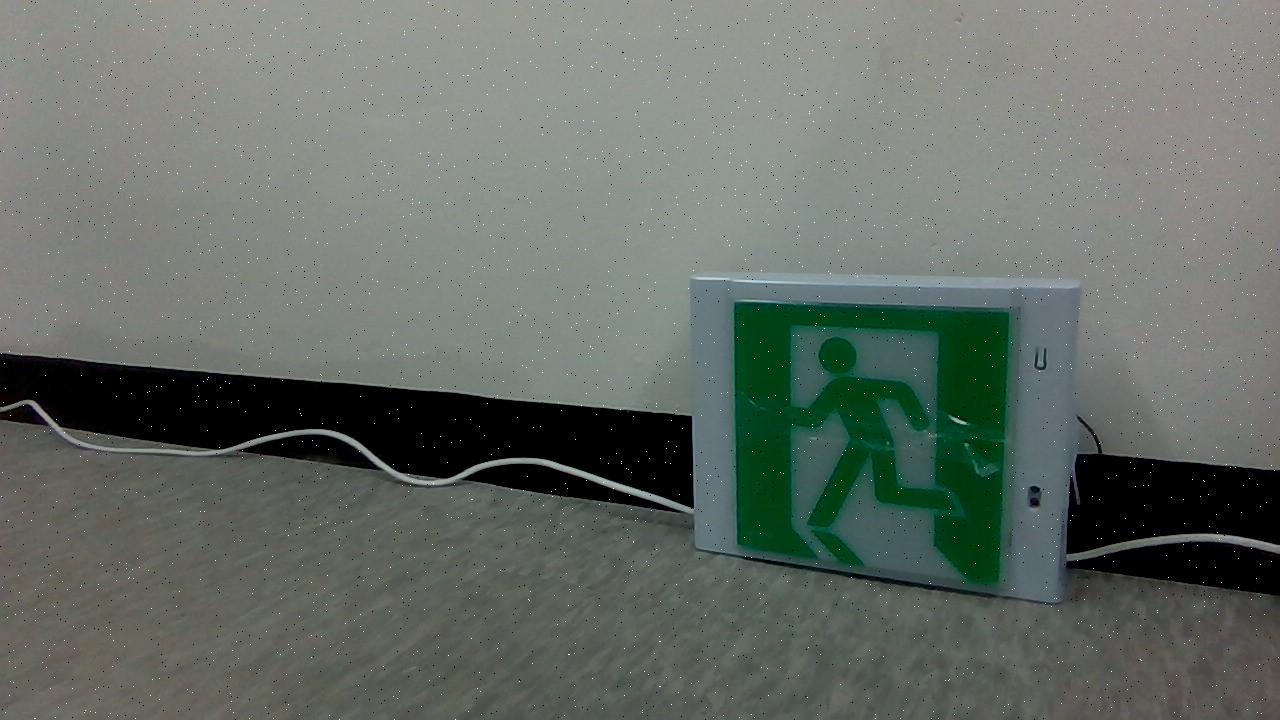emergency_exit: (688, 273, 1082, 605)
